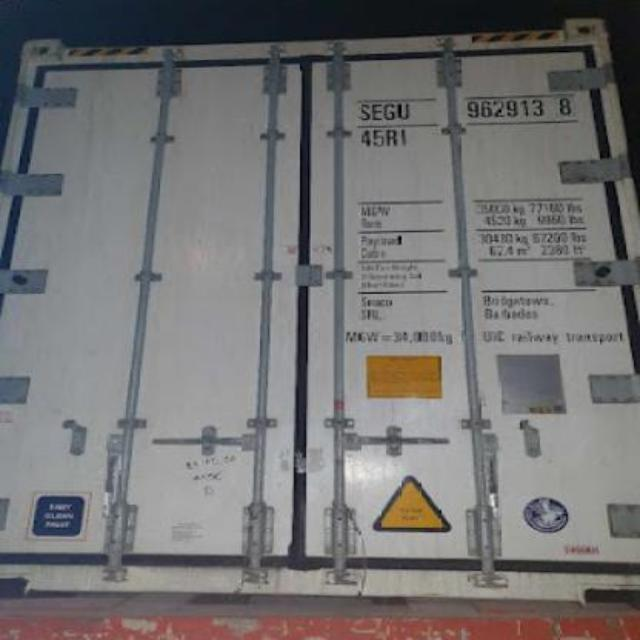1: (520, 95, 532, 116)
2: (494, 98, 508, 118)
3: (532, 98, 546, 118)
6: (481, 98, 494, 118)
8: (558, 97, 574, 115)
9: (506, 95, 520, 116), (466, 98, 479, 118)
E: (372, 101, 384, 122)
G: (384, 102, 398, 122)
S: (358, 103, 372, 123)
U: (396, 100, 414, 122)
